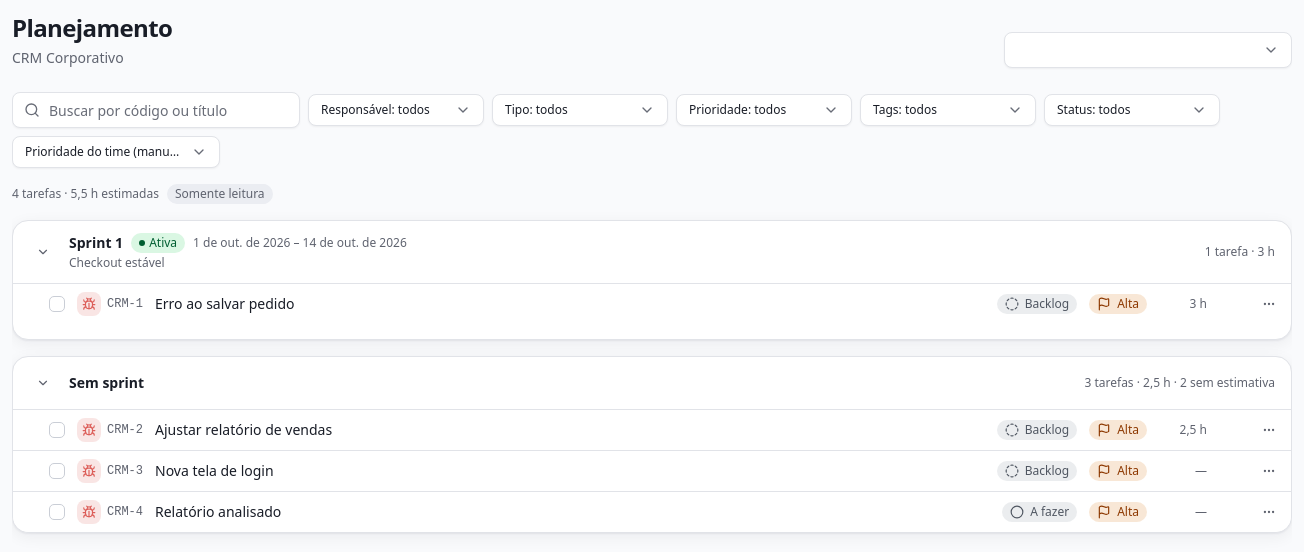
Test: BacklogPage › leitor: sem arrastar, sem ações de planejamento e sem criar
Expected: the text "Erro ao salvar pedido" is shown, [155,294,294,314]
Expected: the text "Somente leitura" is shown, [167,184,273,204]
Click the button named "Ações de CRM-1": (1269, 304) [1255,290,1283,318]
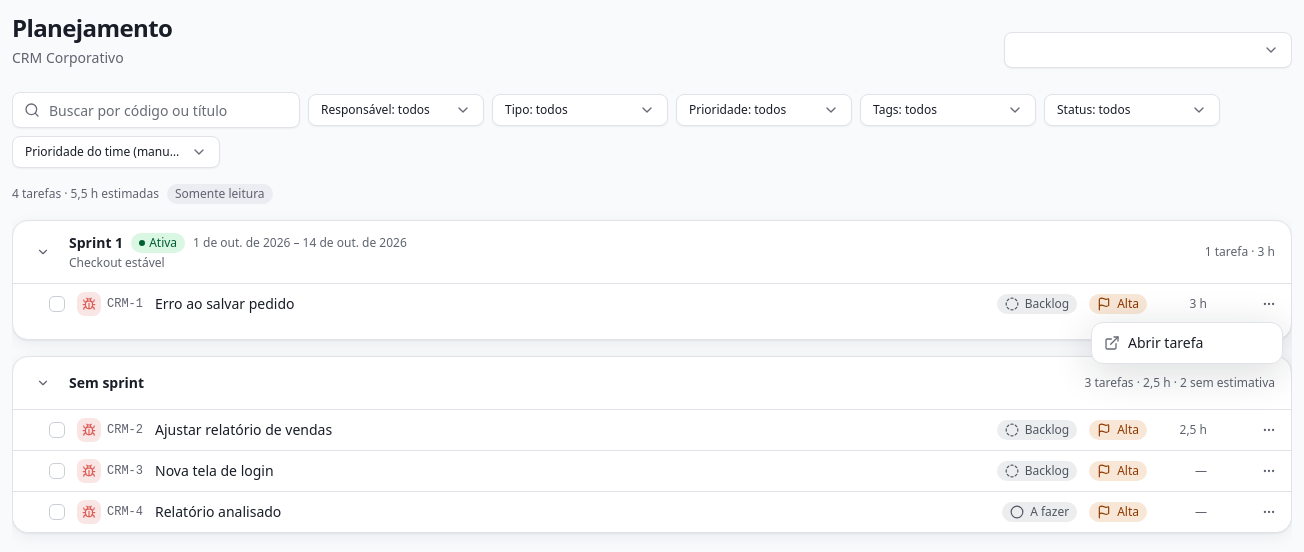
Now the menu items read "Abrir tarefa", in this order, box [1104,333,1203,352]
